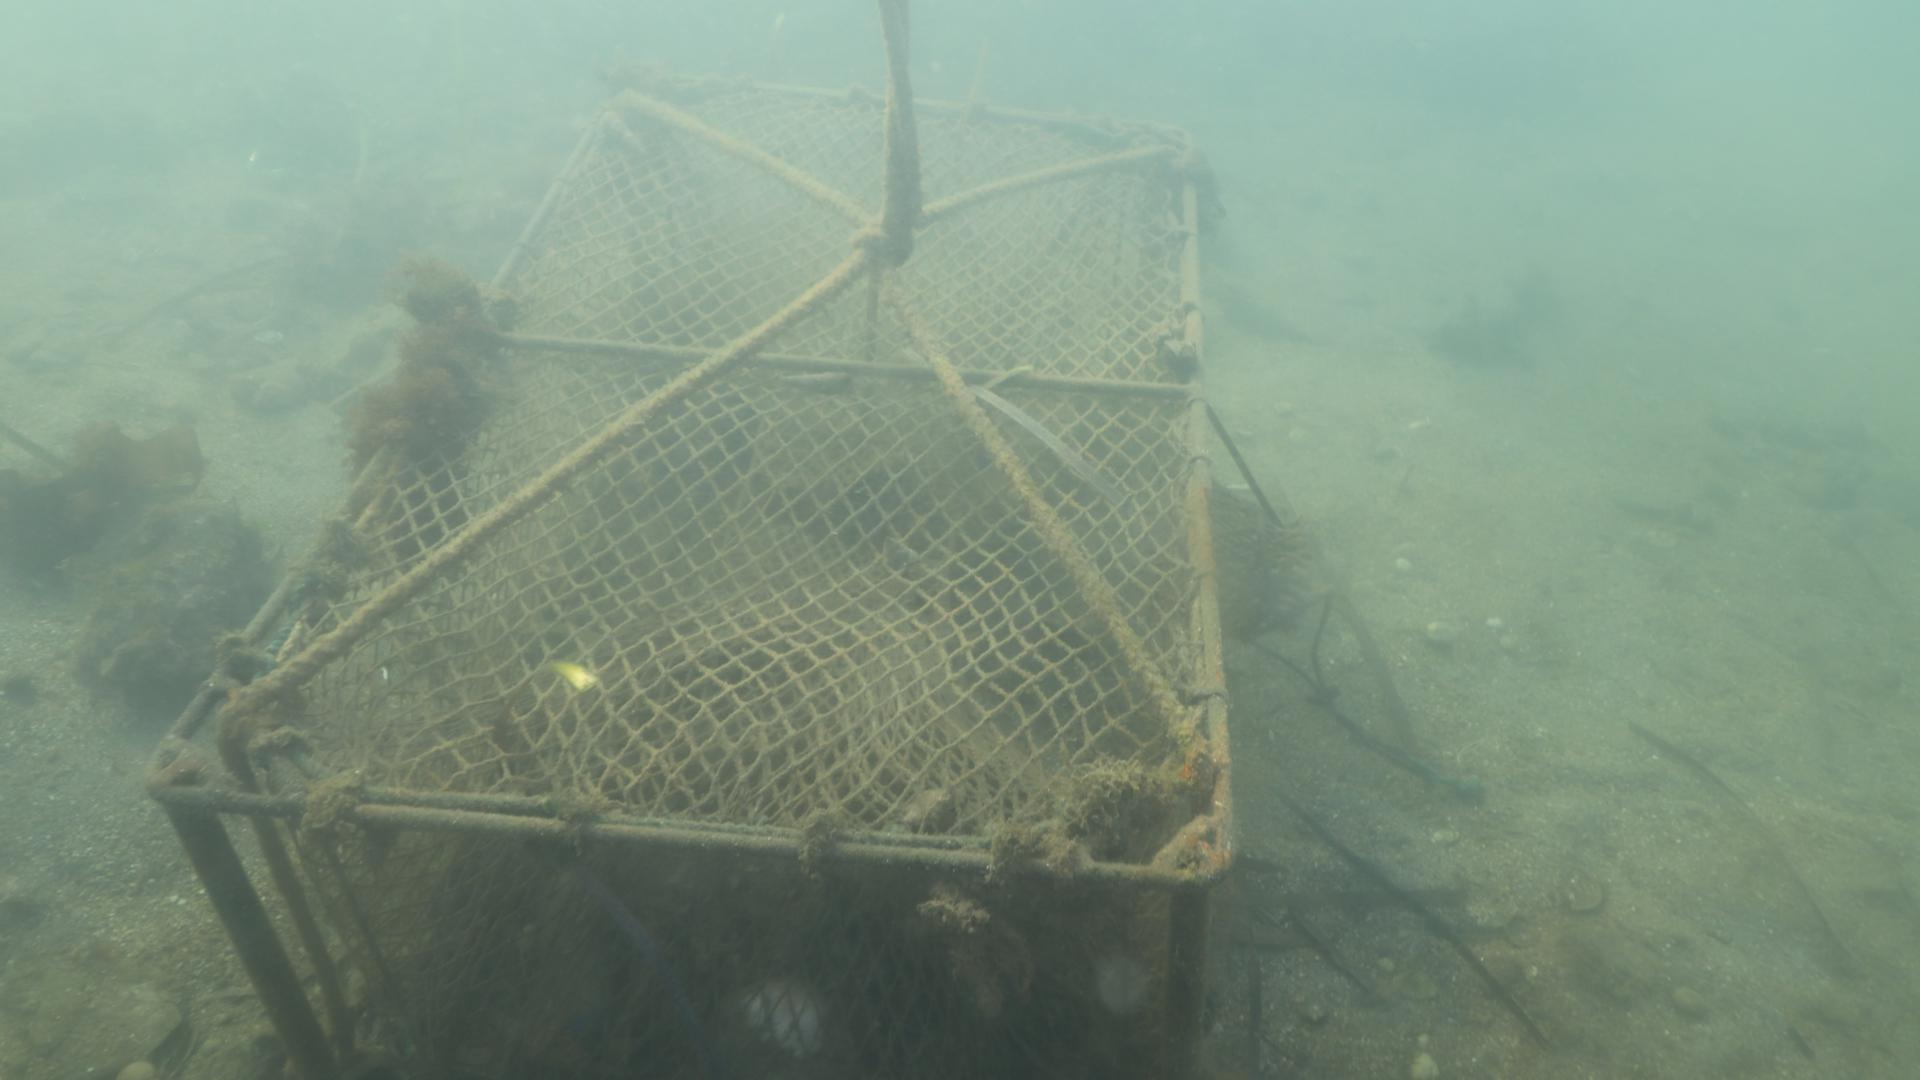bundle of ropes: (848, 0, 919, 278)
rectangular fish trap: (142, 78, 1236, 1080)
